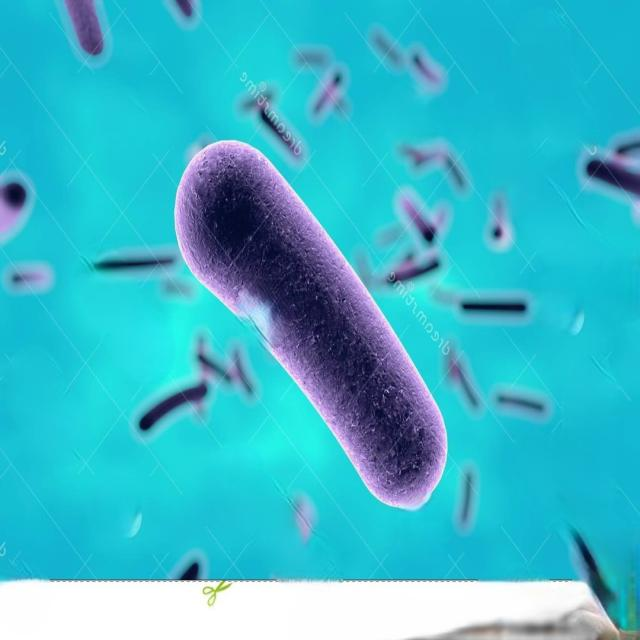Amoeba: (174, 137, 449, 511)
